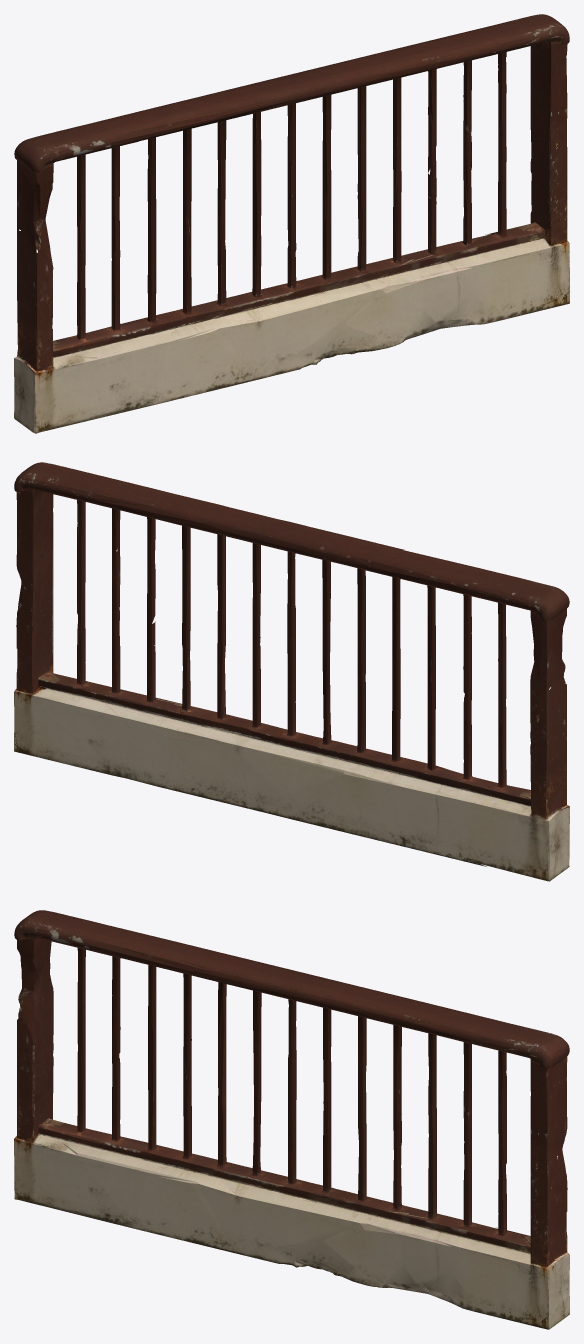
The model's file is w5rail.glb.
3 views of the same model, one above another, from view 1: azimuth 30°, elevation 25°; view 2: azimuth 150°, elevation 25°; view 3: azimuth 330°, elevation 25° (orthographic).
Parts seen in each view (by area): view 1: output_unwrapped; view 2: output_unwrapped; view 3: output_unwrapped.
Boxes of the visible parts, box(x1,y1,x2,y2) form: output_unwrapped: box(14, 14, 569, 433); output_unwrapped: box(14, 462, 569, 881); output_unwrapped: box(14, 910, 569, 1329).
Bounding box in the file's own units: 2 × 0.9942 × 0.1516.
1 material, 1 textured.
